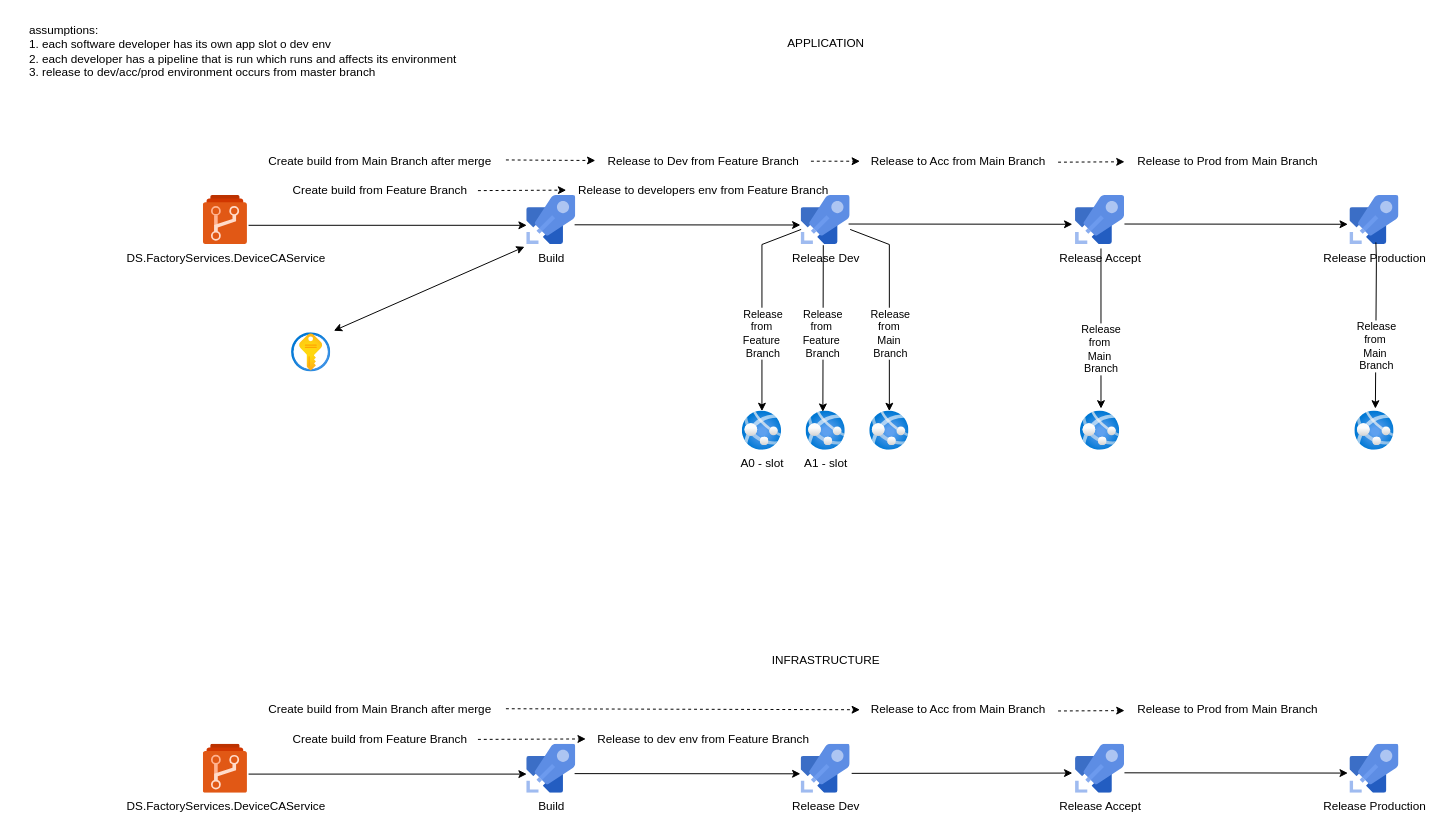
This 1443x830 diagram has some shape labels left out. The shapes that lost their labels are listed below. From the top down, each one's centre as x and y in pixels, then its label:
At point 310,351: "Pipeline library variables/secure-files".
At point 888,430: "Dev".
At point 1099,430: "Accept".
At point 1374,430: "Prod".
